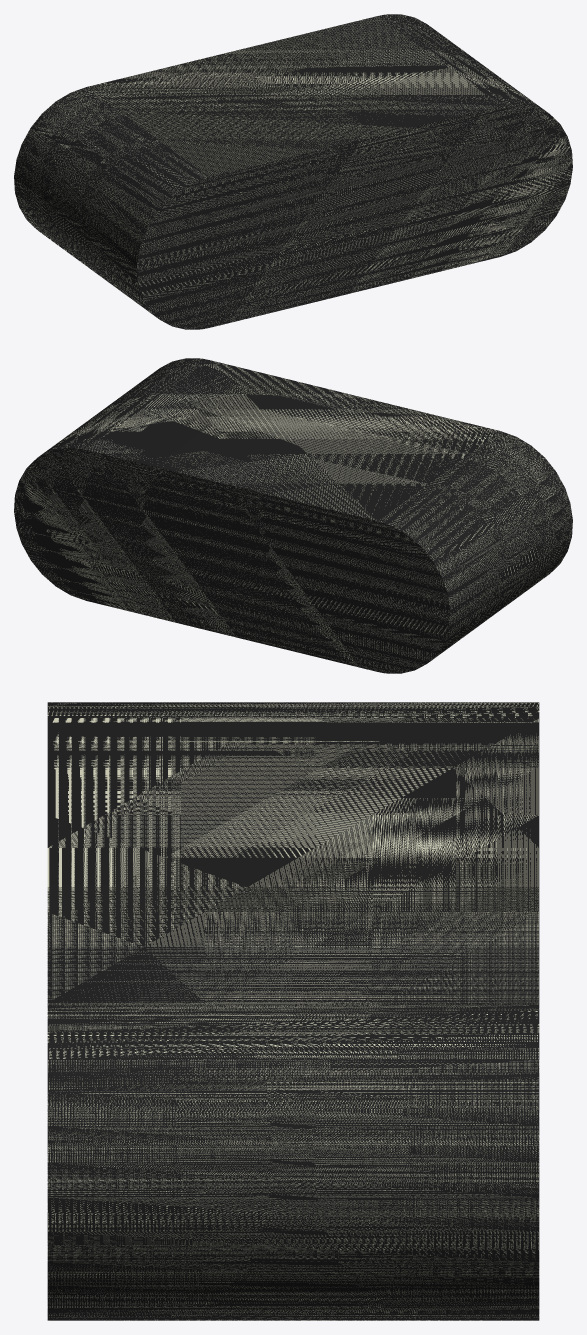
File: original-2.obj
3 views of the same model, one above another, from view 1: azimuth 30°, elevation 25°; view 2: azimuth 150°, elevation 25°; view 3: azimuth 270°, elevation 25° (orthographic). The views are drawn at different scales.
Parts seen in each view (by area): view 1: Obj_000002_1/Obj_000002/mesh2/mesh2-geometry#mesh2-geometry; view 2: Obj_000002_1/Obj_000002/mesh2/mesh2-geometry#mesh2-geometry; view 3: Obj_000002_1/Obj_000002/mesh2/mesh2-geometry#mesh2-geometry.
Part boxes in pixels (left/top/right/bottom): Obj_000002_1/Obj_000002/mesh2/mesh2-geometry#mesh2-geometry: left=14, top=14, right=572, bottom=329; Obj_000002_1/Obj_000002/mesh2/mesh2-geometry#mesh2-geometry: left=14, top=358, right=572, bottom=673; Obj_000002_1/Obj_000002/mesh2/mesh2-geometry#mesh2-geometry: left=47, top=702, right=539, bottom=1320.
Bounding box in the file's own units: 0.0722 × 0.0239 × 0.0353.
